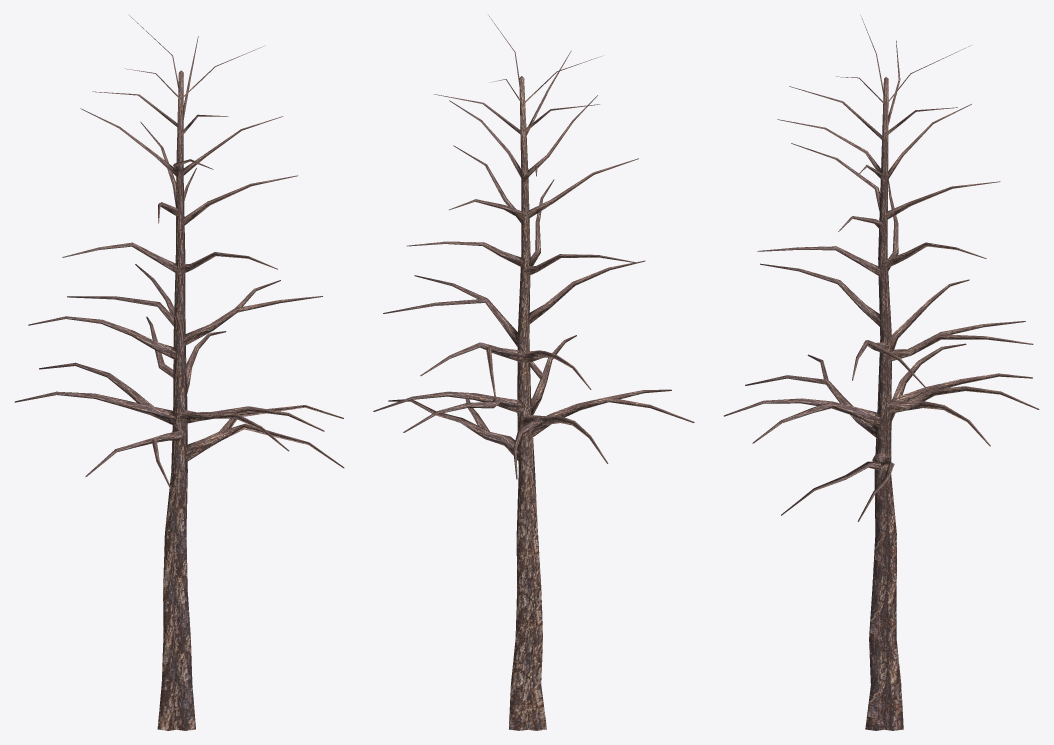
File: trunk.glb
3 renders of one model, left to right at view 1: azimuth 30°, elevation 25°; view 2: azimuth 150°, elevation 25°; view 3: azimuth 270°, elevation 25°, orthographic.
Parts seen in each view (by area): view 1: trunk; view 2: trunk; view 3: trunk.
Part boxes in pixels (x1=…): trunk: x1=14, y1=15, x2=344, y2=730; trunk: x1=373, y1=15, x2=694, y2=730; trunk: x1=724, y1=15, x2=1039, y2=730.
Size of what is drawn, in the model's own units: 21.47 by 49.3 by 20.78.
1 material, 1 textured.
